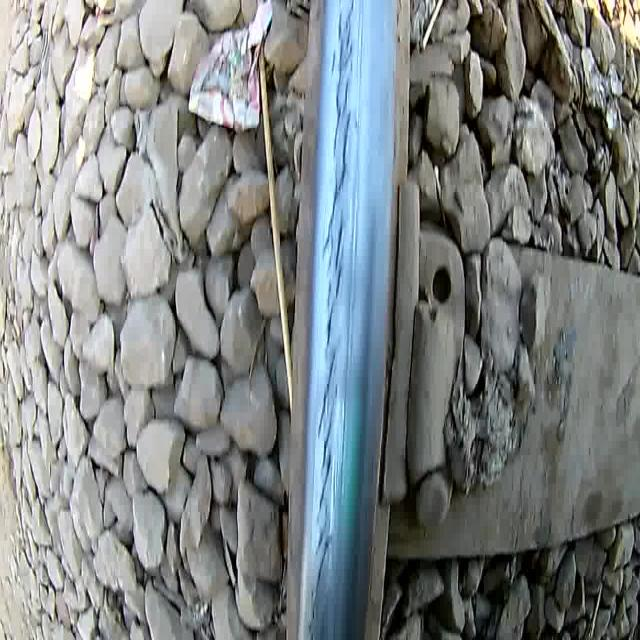Cracks: (305, 0, 359, 640)
Grooves: (329, 0, 368, 639)
